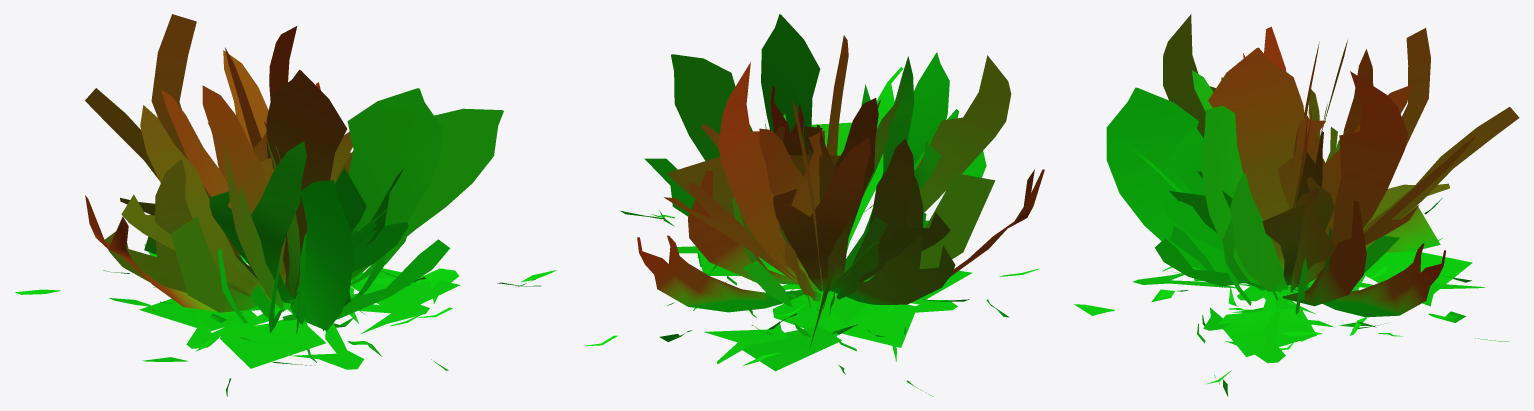
File: Dead Shrubs_LOD1_Var13_vdknafgha.fbx
3 views of the same model, side by side, from view 1: azimuth 30°, elevation 25°; view 2: azimuth 150°, elevation 25°; view 3: azimuth 270°, elevation 25° (orthographic). The views are drawn at different scales.
Visible parts, largest first — view 1: _rjs8_Var13_LOD1; view 2: _rjs8_Var13_LOD1; view 3: _rjs8_Var13_LOD1.
Boxes of the visible parts, box(x1,y1,x2,y2) form: _rjs8_Var13_LOD1: box(15, 14, 556, 396); _rjs8_Var13_LOD1: box(586, 14, 1044, 396); _rjs8_Var13_LOD1: box(1073, 14, 1519, 396).
Size of the model in its own units: 83.12 by 45.32 by 74.69.
